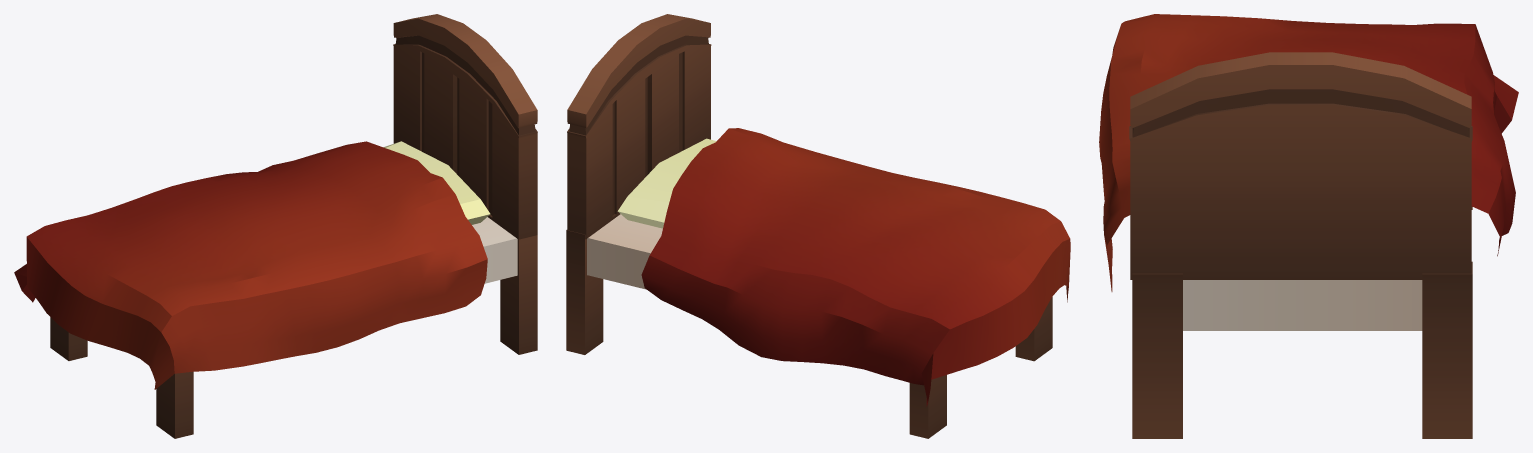
Rendered from ST_bed.fbx.
The picture shows the model from 3 angles, left to right: view 1: azimuth 30°, elevation 25°; view 2: azimuth 150°, elevation 25°; view 3: azimuth 270°, elevation 25°; orthographic projection. The views are drawn at different scales.
Parts seen in each view (by area): view 1: ST_bed; view 2: ST_bed; view 3: ST_bed.
Part boxes in pixels (box(x1,y1,x2,y2)): ST_bed: box(14, 14, 537, 438); ST_bed: box(566, 14, 1070, 438); ST_bed: box(1099, 14, 1518, 438).
Size of the model in its own units: 172 by 112 by 114.
